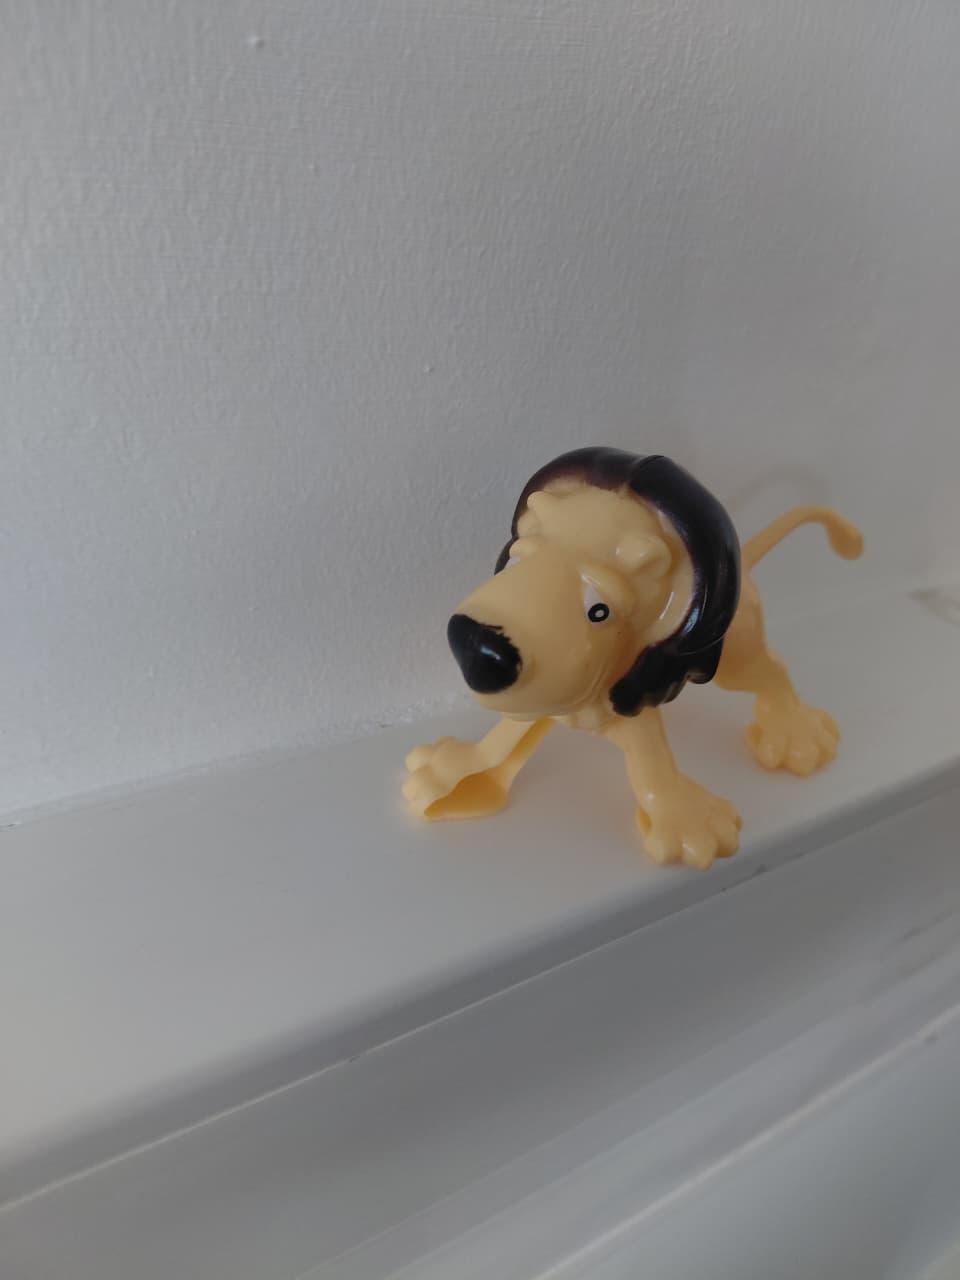lion: (360, 405, 954, 899)
